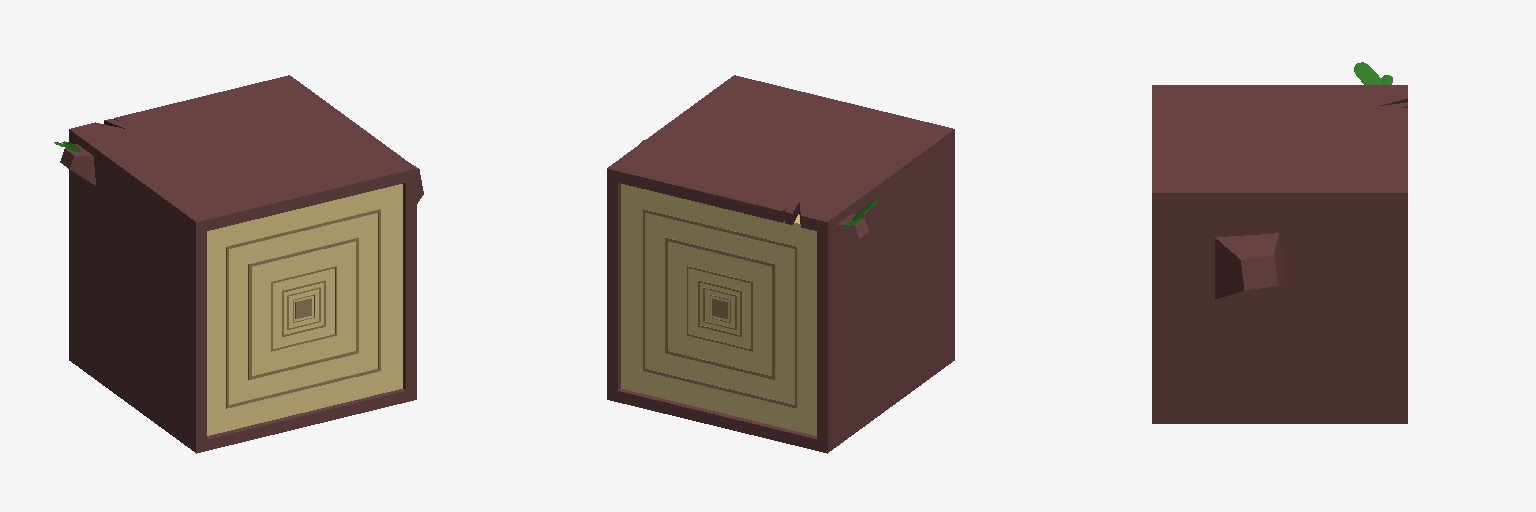
File: log(leap).obj
The picture shows the model from 3 angles: view 1: azimuth 30°, elevation 25°; view 2: azimuth 150°, elevation 25°; view 3: azimuth 270°, elevation 25°; orthographic projection.
Parts seen in each view (by area): view 1: 큐브_1, 큐브, 큐브.1_6, 큐브.1_5, 큐브.1_7, 큐브.2; view 2: 큐브_1, 큐브, 큐브.1_6, 큐브.1_5, 큐브.1_7, 큐브.2; view 3: 큐브_1, 큐브.3.
Part boxes in pixels (x1,y1,x2,y2): 큐브_1: (69, 75, 416, 453); 큐브: (207, 184, 402, 435); 큐브.1_6: (226, 209, 380, 408); 큐브.1_5: (248, 237, 358, 379); 큐브.1_7: (207, 183, 405, 438); 큐브.2: (60, 144, 95, 185); 큐브_1: (607, 75, 954, 453); 큐브: (621, 184, 816, 435); 큐브.1_6: (643, 209, 797, 408); 큐브.1_5: (665, 237, 775, 379); 큐브.1_7: (618, 183, 816, 438); 큐브.2: (833, 213, 868, 254); 큐브_1: (1152, 85, 1407, 423); 큐브.3: (1215, 233, 1287, 299).
Size of the model in its own units: 272 by 209 by 200.